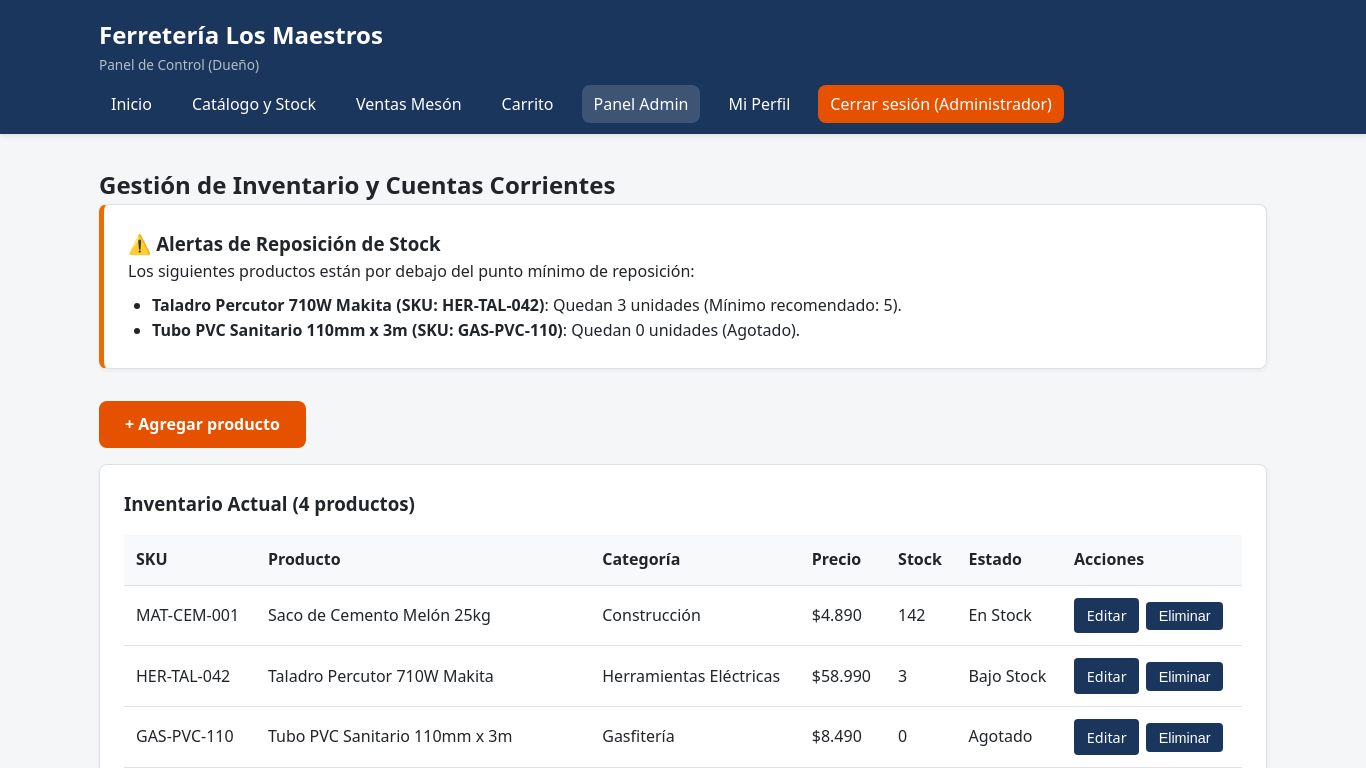
App › eliminar un producto en el panel lo borra en la API y lo quita del inventario
Click the button "Eliminar" in the row of "MAT-CEM-001".
click(1185, 616)  # box [1146,602,1223,630]
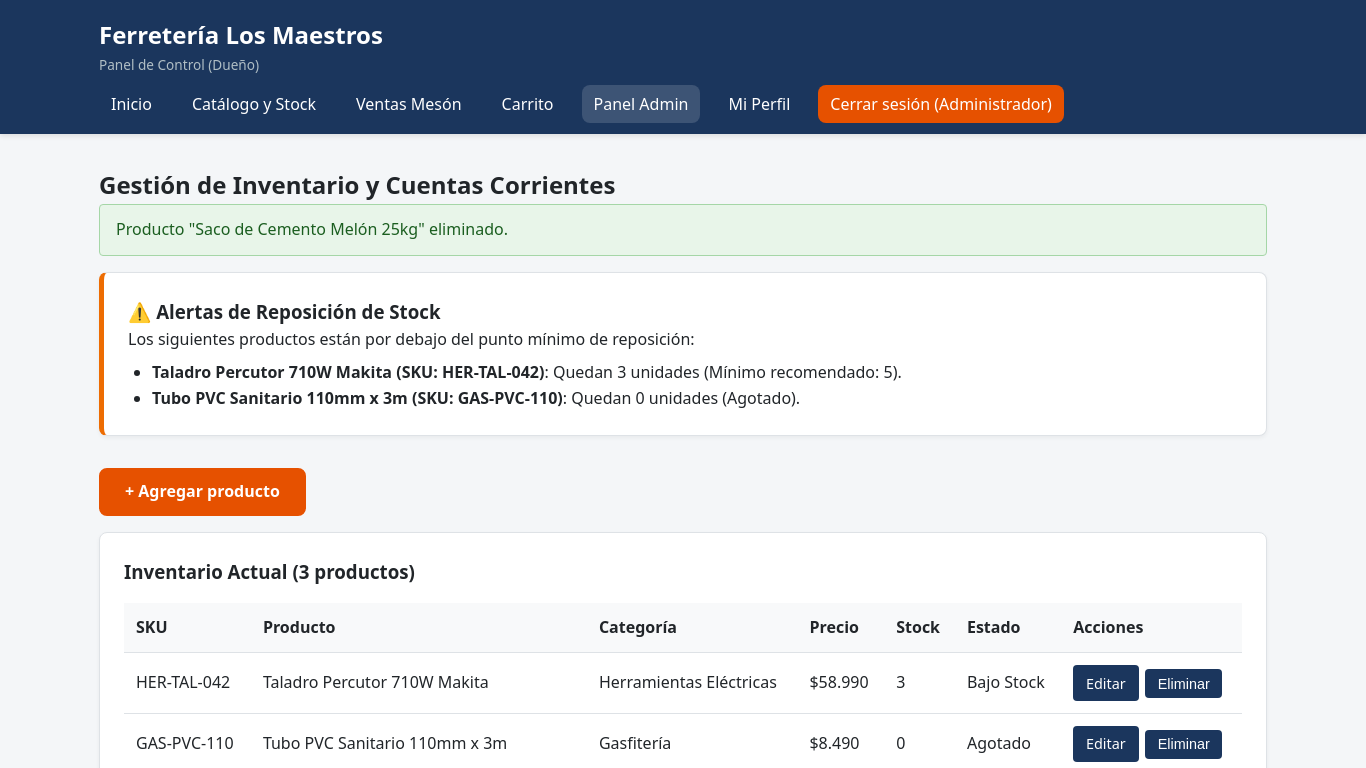
Expected: the text "Producto \"Saco de Cemento Melón 25kg\" eliminado." is shown, [99,204,1267,256]
Expected: the heading "Inventario Actual (3 productos)" is shown, [124,559,415,584]
